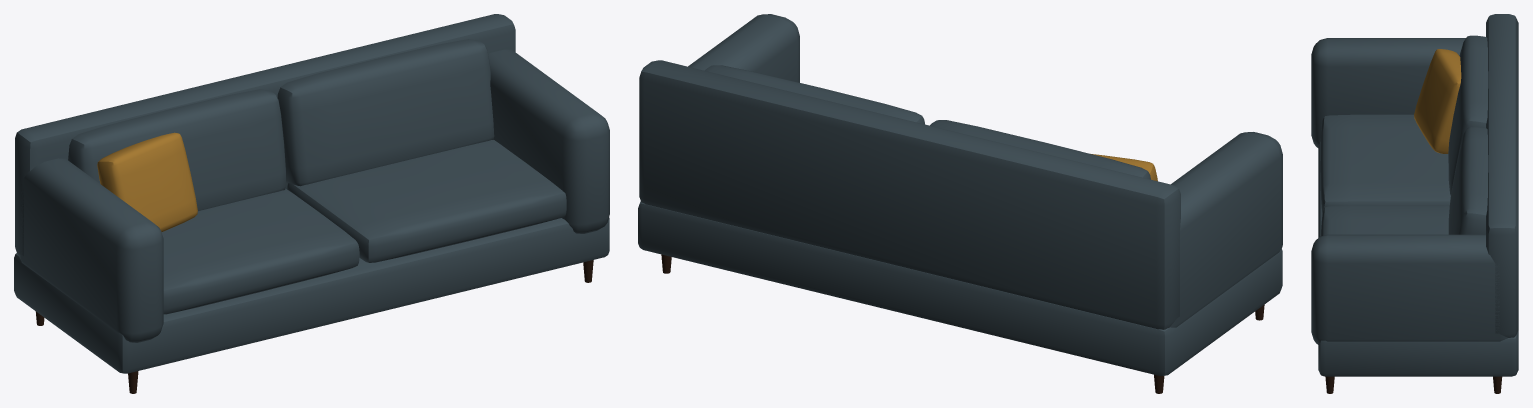
Rendered from sofa.glb.
The picture shows the model from 3 angles, left to right: view 1: azimuth 30°, elevation 25°; view 2: azimuth 150°, elevation 25°; view 3: azimuth 270°, elevation 25°; orthographic projection. The views are drawn at different scales.
Visible parts, largest first — view 1: main__sofa__fabric_sofa, main__sofa__fabric_pillow; view 2: main__sofa__fabric_sofa; view 3: main__sofa__fabric_sofa, main__sofa__fabric_pillow, main__sofa__wood_dark.
Part boxes in pixels (x1,y1,x2,y2): main__sofa__fabric_sofa: (14,14,609,373); main__sofa__fabric_pillow: (97,132,197,231); main__sofa__fabric_sofa: (638,14,1282,375); main__sofa__fabric_sofa: (1311,14,1518,376); main__sofa__fabric_pillow: (1414,49,1461,153); main__sofa__wood_dark: (1325,376,1502,393).
Bounding box in the file's own units: 2.2 × 0.825 × 0.89.
